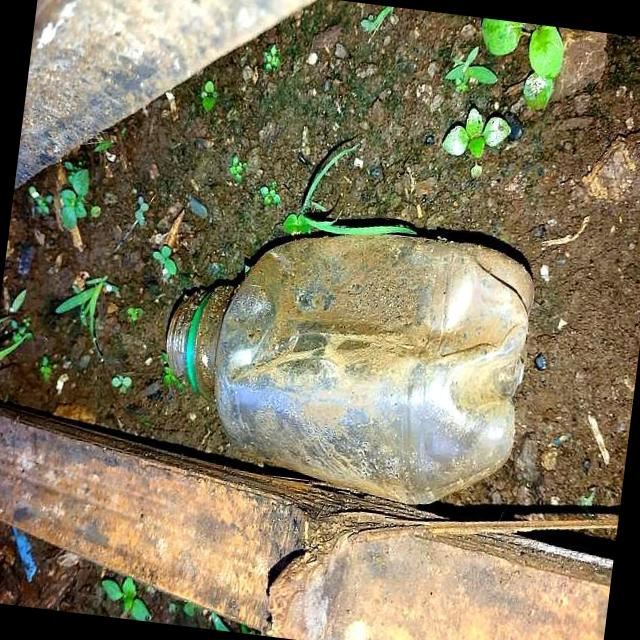Non-biodegradable: (153, 205, 543, 518)
